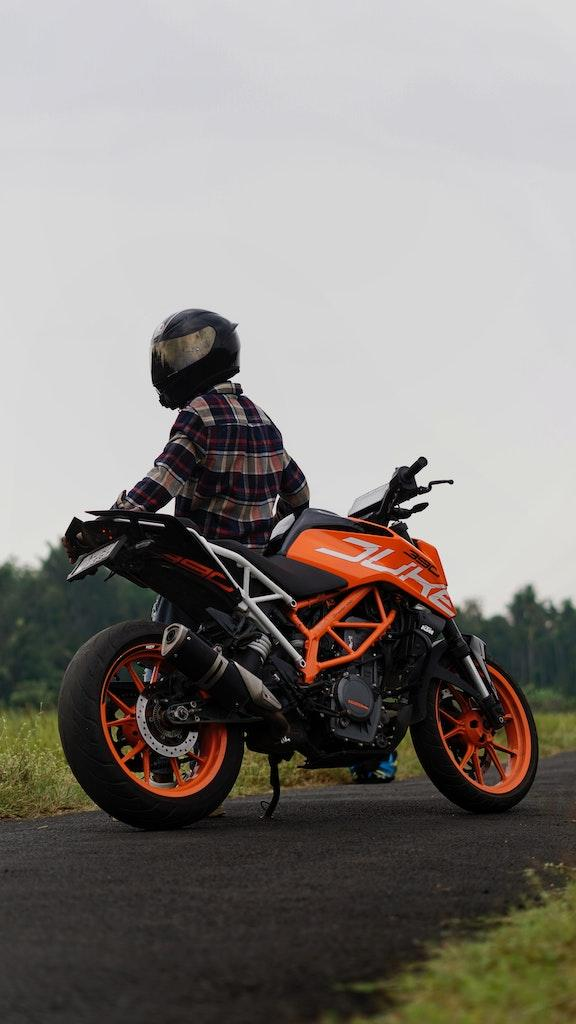helmet: (148, 307, 242, 411)
